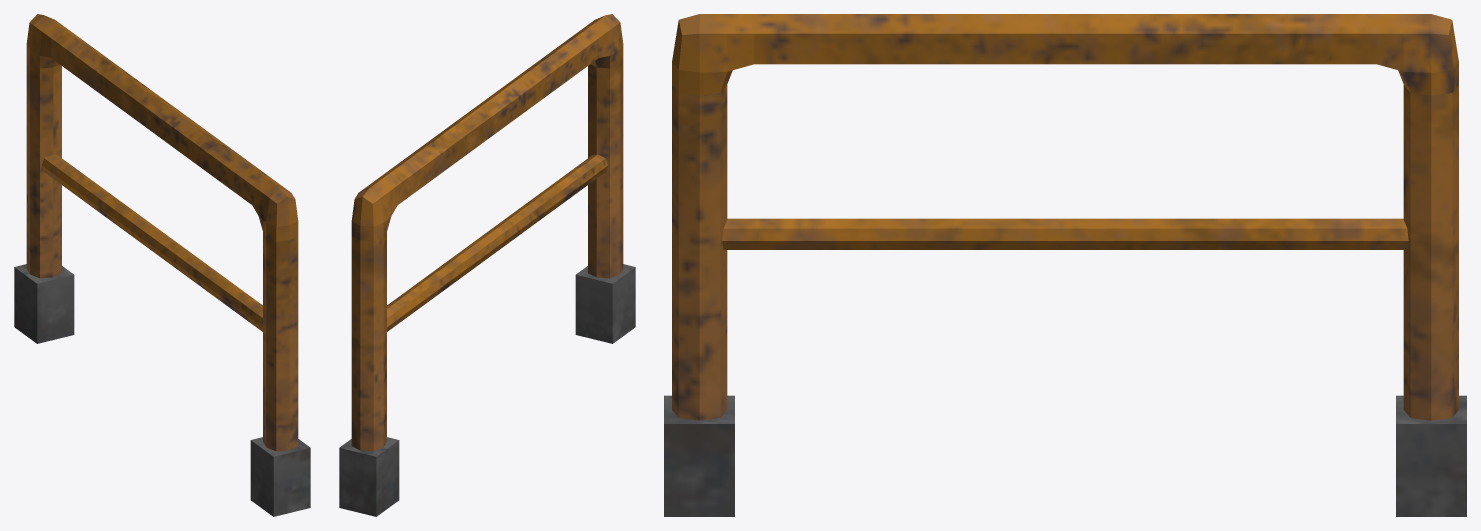
File: Barrer2_SM.fbx
3 views of the same model, side by side, from view 1: azimuth 30°, elevation 25°; view 2: azimuth 150°, elevation 25°; view 3: azimuth 270°, elevation 25° (orthographic). The views are drawn at different scales.
Parts seen in each view (by area): view 1: Box007; view 2: Box007; view 3: Box007.
Boxes of the visible parts, <box> form: Box007: <box>14,14,310,516</box>; Box007: <box>339,14,635,516</box>; Box007: <box>664,14,1466,516</box>.
Size of the model in its own units: 12.69 by 103 by 153.
